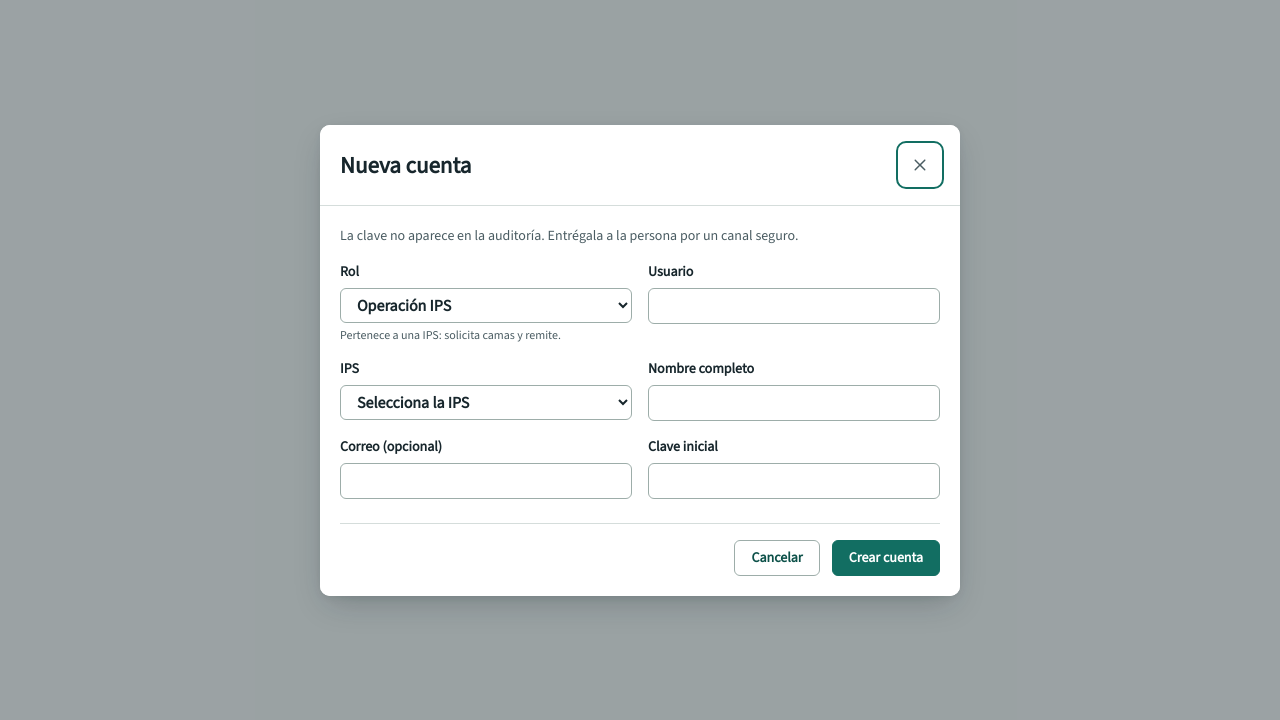
Test: offers especialista with an IPS and contable with an EPS
Select "Especialista" in the dropdown labelled "Rol" at (486, 305), box x1=340 y1=288 x2=632 y2=322
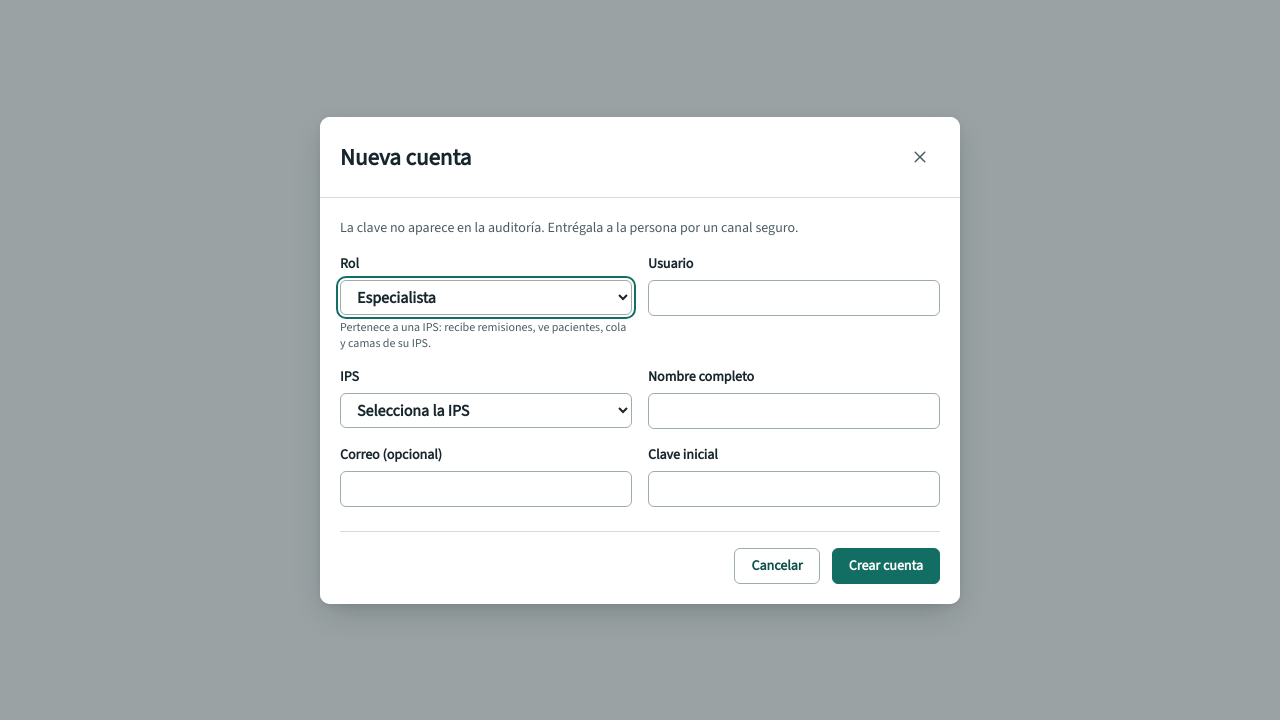
Expected: the field labelled "EPS" is not shown
Expected: the text "recibe remisiones" is shown, x1=340 y1=318 x2=626 y2=350
Select "Contable" in the dropdown labelled "Rol" at (486, 297), box x1=340 y1=280 x2=632 y2=314
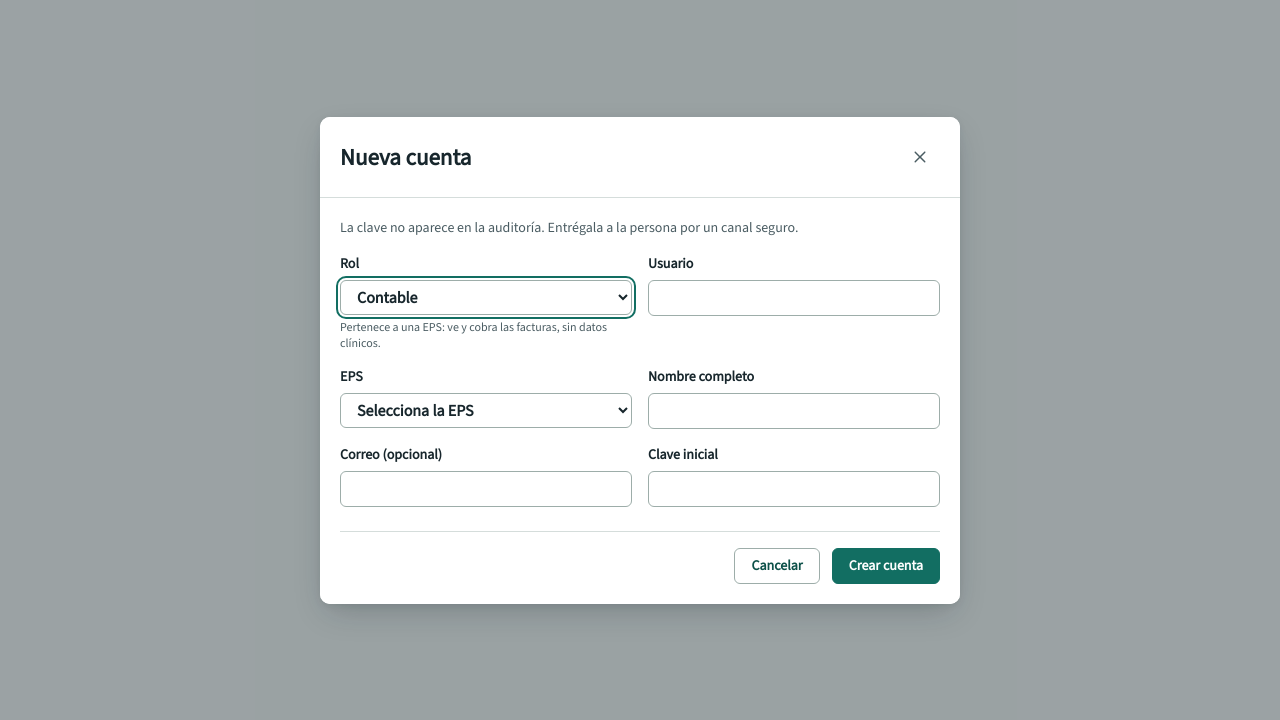
Expected: the text labelled "IPS" is gone
Expected: the text "sin datos clínicos" is shown, x1=340 y1=318 x2=607 y2=350
